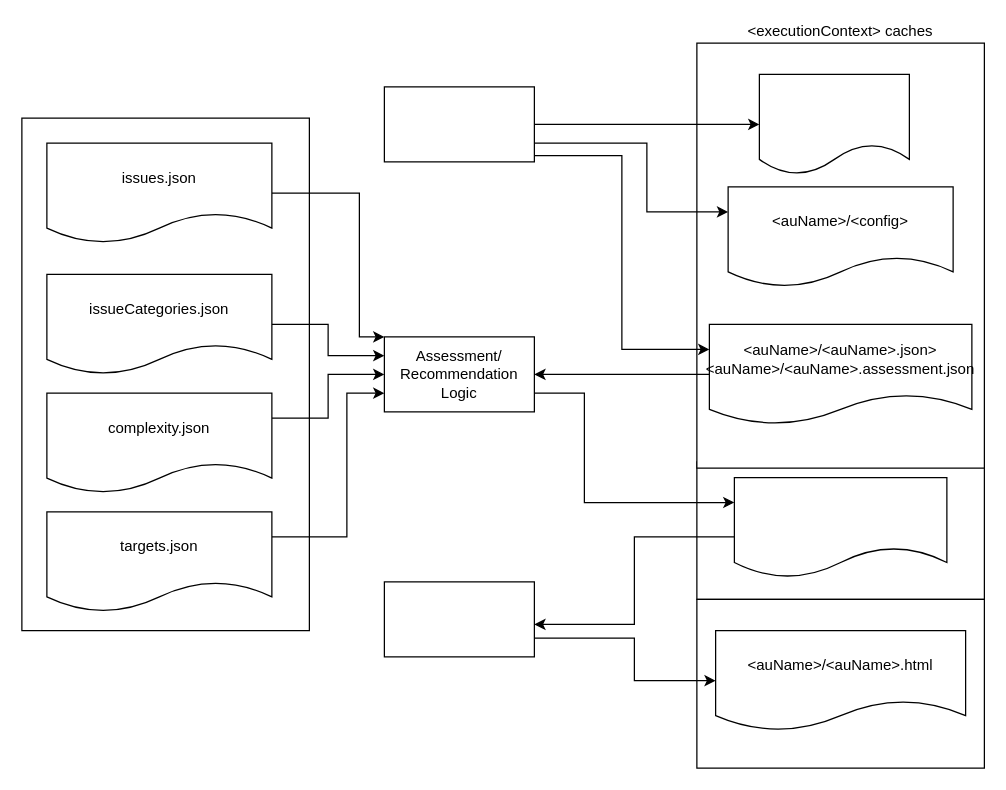
The diagram is 1006 pixels wide and 790 high, and some of its shapes have lost their labels. Each missing label, with the centre of its shape:
"Collection Logic" belongs at pixel 458 124.
"environment.json" belongs at pixel 833 123.
"Presentation Logic" belongs at pixel 458 619.
"recommendations.json" belongs at pixel 840 527.
